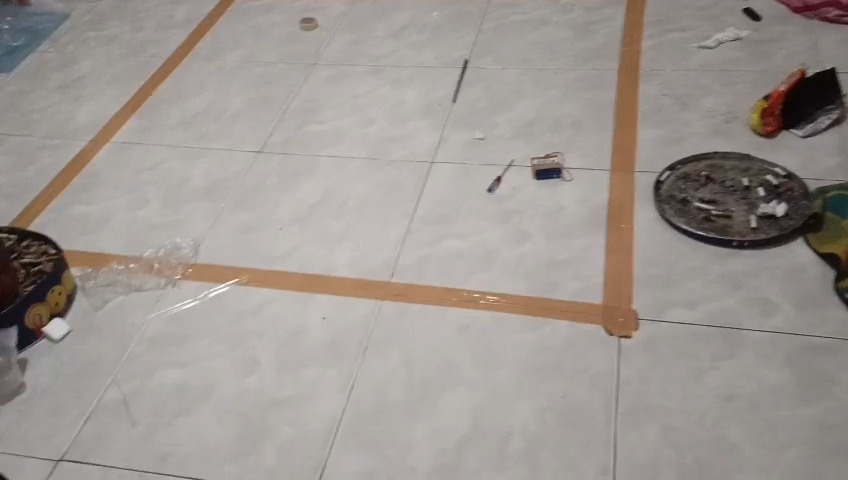floor marking: (186, 0, 644, 337), (13, 0, 233, 225), (67, 252, 129, 266)
